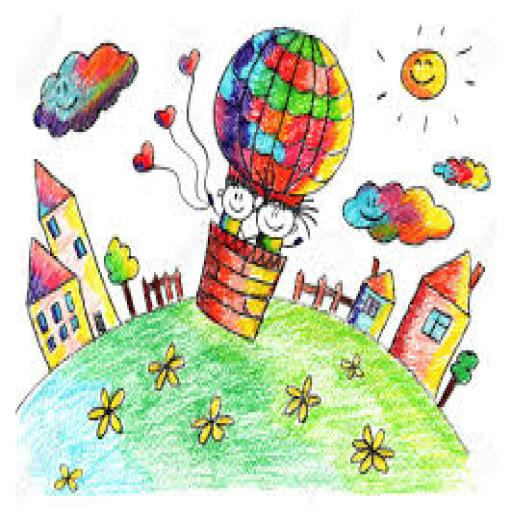person: (246, 184, 317, 264), (201, 169, 256, 241)
